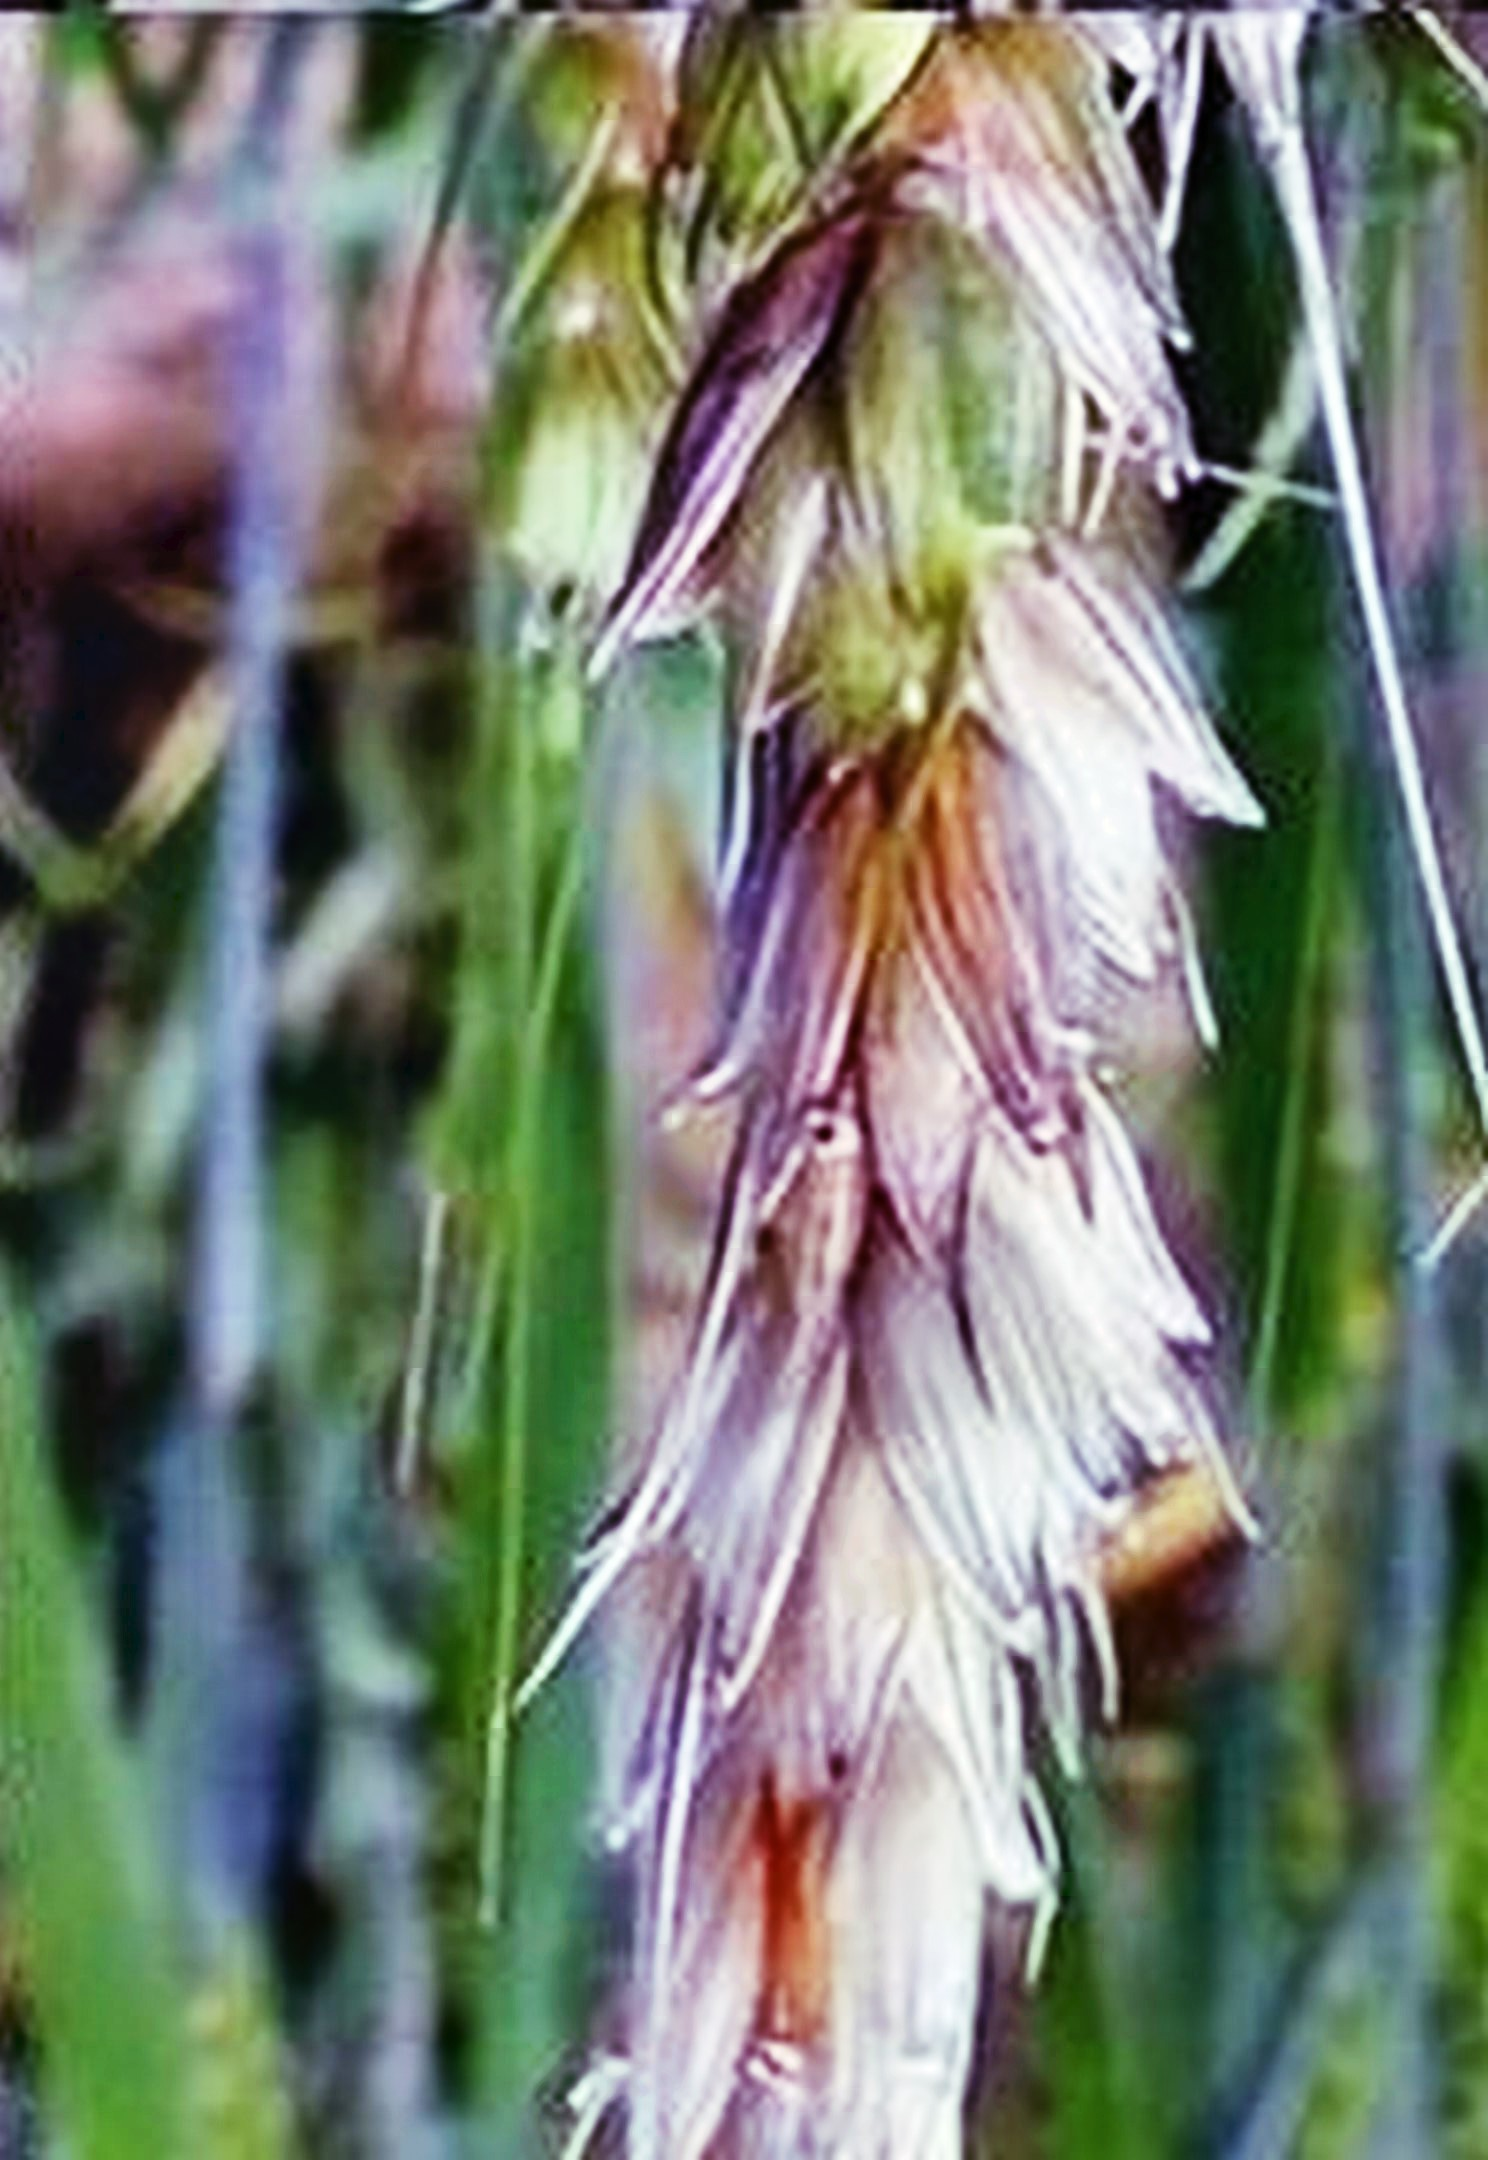Wheat scab: (577, 2, 1268, 2080)
